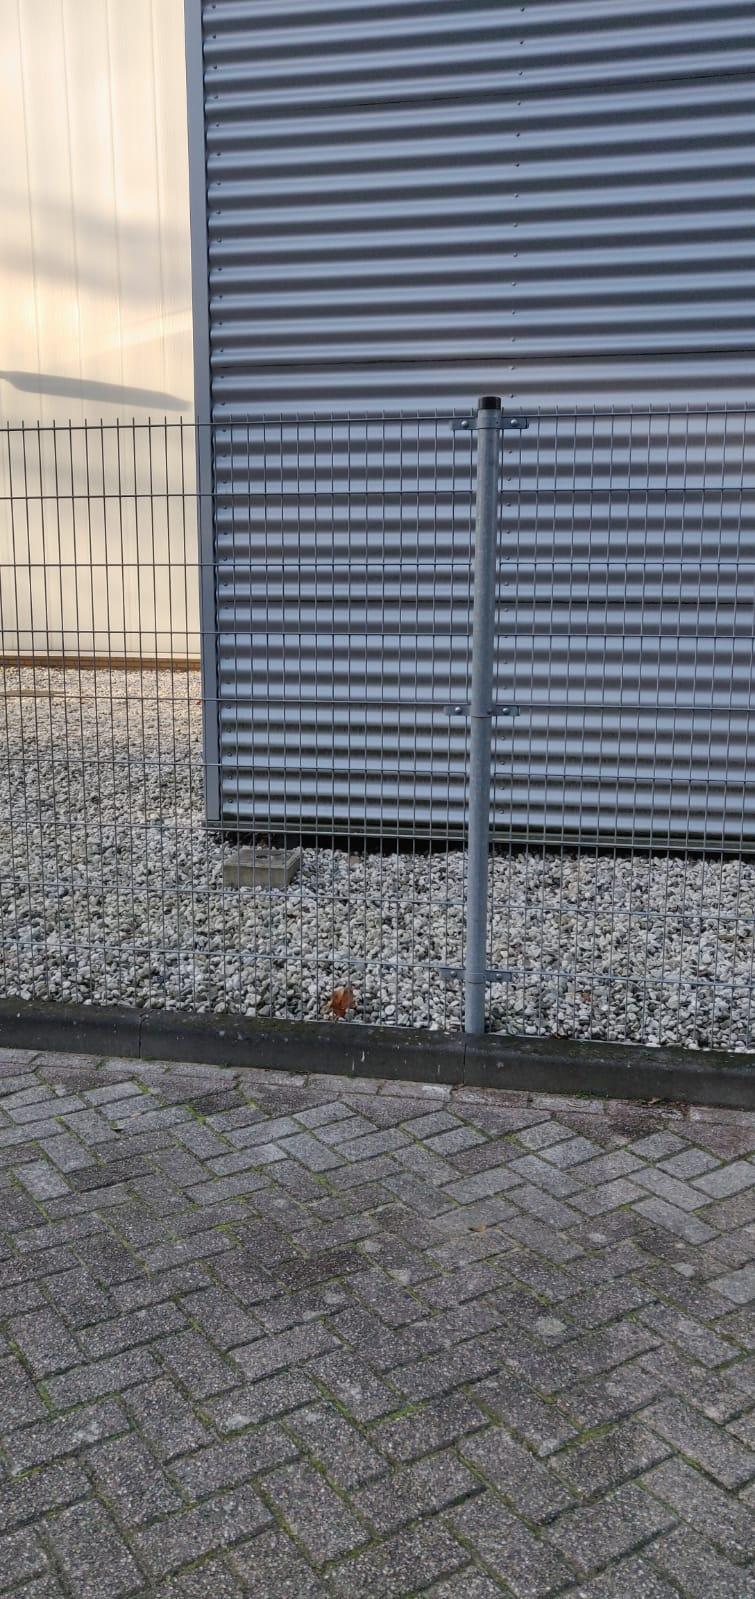obstacle: (0, 292, 755, 1451)
